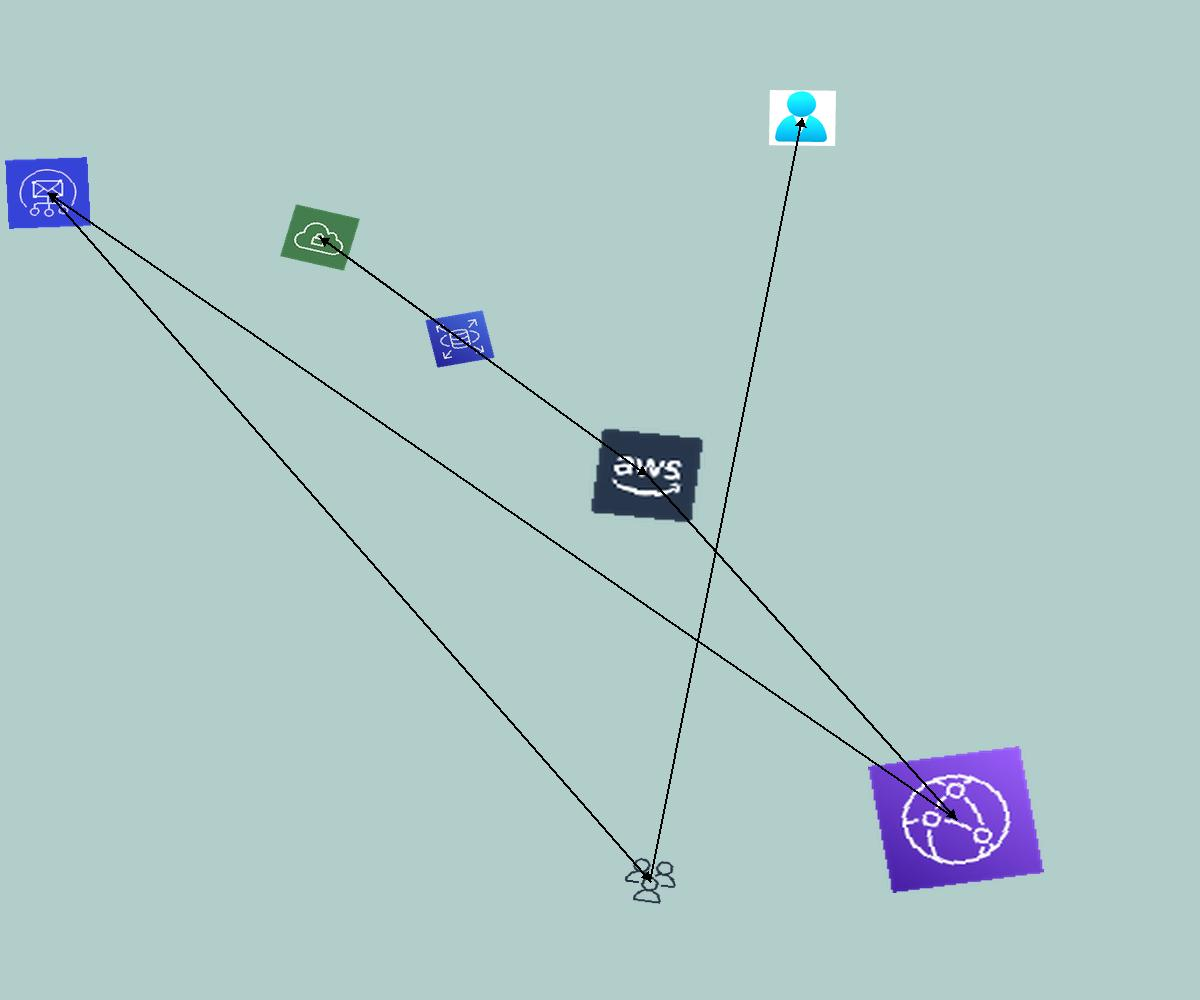AWS-Cloud-logo: (589, 427, 705, 524)
AWS-CloudFront: (868, 746, 1044, 893)
AWS-Private_vpc: (280, 204, 360, 271)
AWS-RDS: (425, 310, 495, 368)
AWS-Res_Users: (618, 854, 683, 908)
AWS-Simple-Email-Service: (5, 157, 91, 229)
Azure_users: (769, 90, 836, 146)
